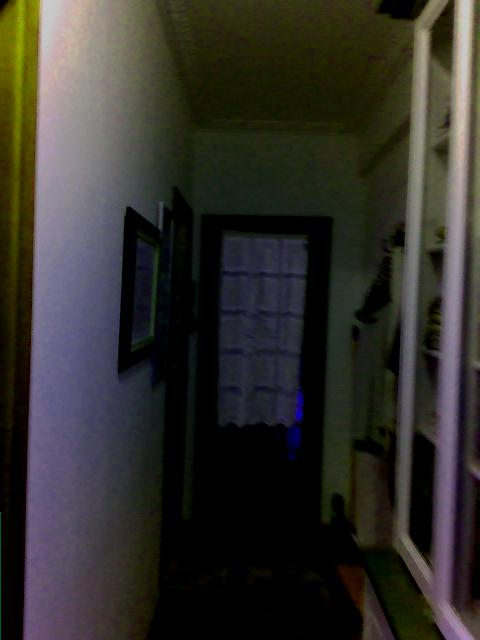closed_door: (191, 214, 331, 529)
